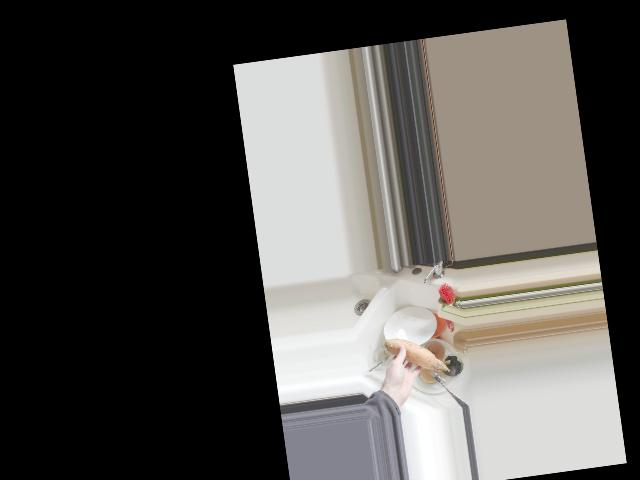sweet_potato: (383, 330, 448, 381)
